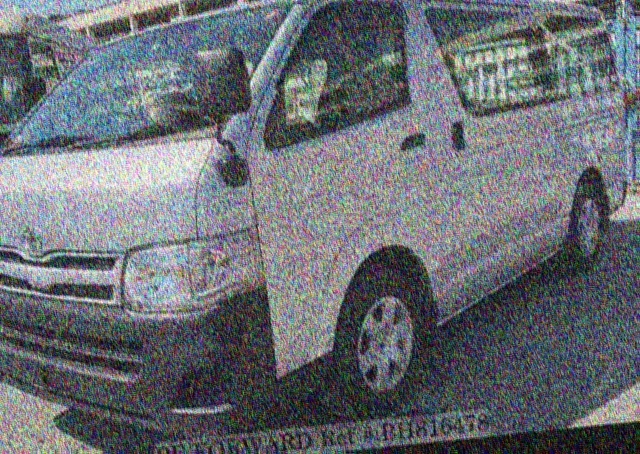van: (0, 0, 640, 442)
